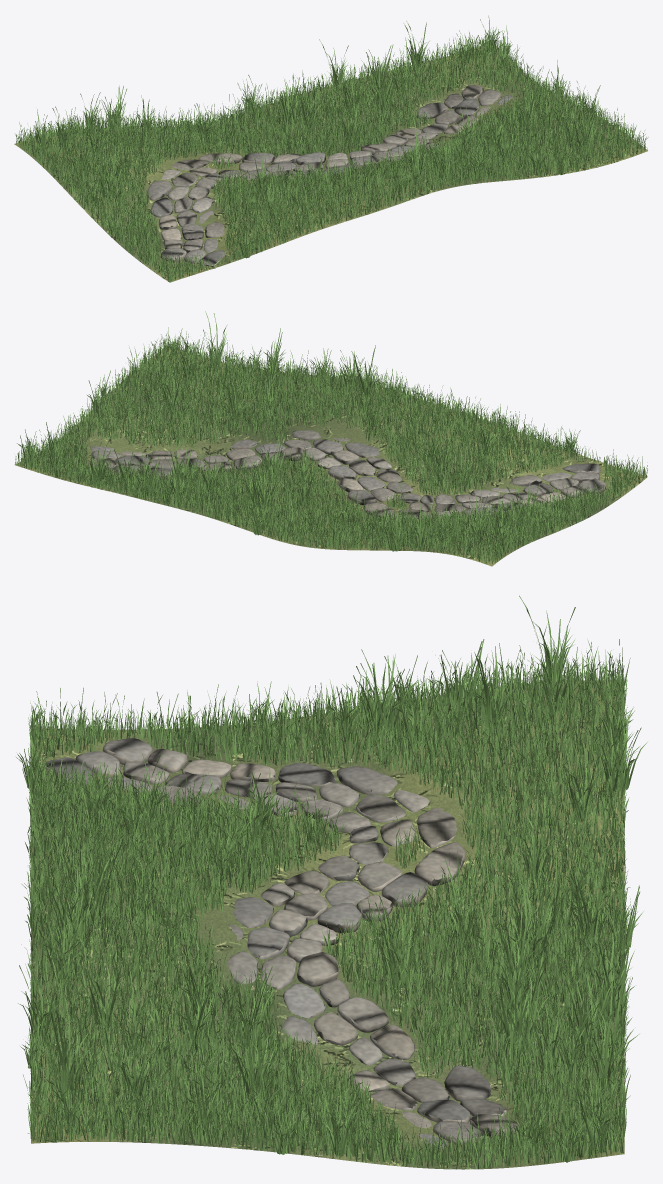
The model's file is path_through_grass.glb.
The picture shows the model from 3 angles, top to bottom: view 1: azimuth 30°, elevation 25°; view 2: azimuth 150°, elevation 25°; view 3: azimuth 270°, elevation 25°; orthographic projection. The views are drawn at different scales.
Visible parts, largest first — view 1: PathPatchGrass, PathPatchGround, PathPatchStones; view 2: PathPatchGrass, PathPatchGround, PathPatchStones; view 3: PathPatchGrass, PathPatchGround, PathPatchStones.
Boxes of the visible parts, x1,y1,x2,y2 form: PathPatchGrass: (15, 15, 648, 282); PathPatchGround: (14, 44, 647, 282); PathPatchStones: (146, 85, 512, 269); PathPatchGrass: (15, 311, 647, 564); PathPatchGround: (14, 348, 647, 566); PathPatchStones: (90, 430, 606, 518); PathPatchGrass: (16, 595, 647, 1169); PathPatchGround: (31, 680, 624, 1169); PathPatchStones: (44, 738, 518, 1148).
Bounding box in the file's own units: 11.14 × 1.92 × 6.56.
Materials: 3 (2 with a texture image).
